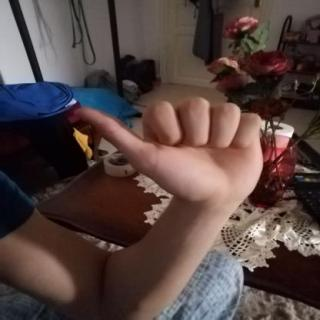DAD: (58, 90, 282, 215)
